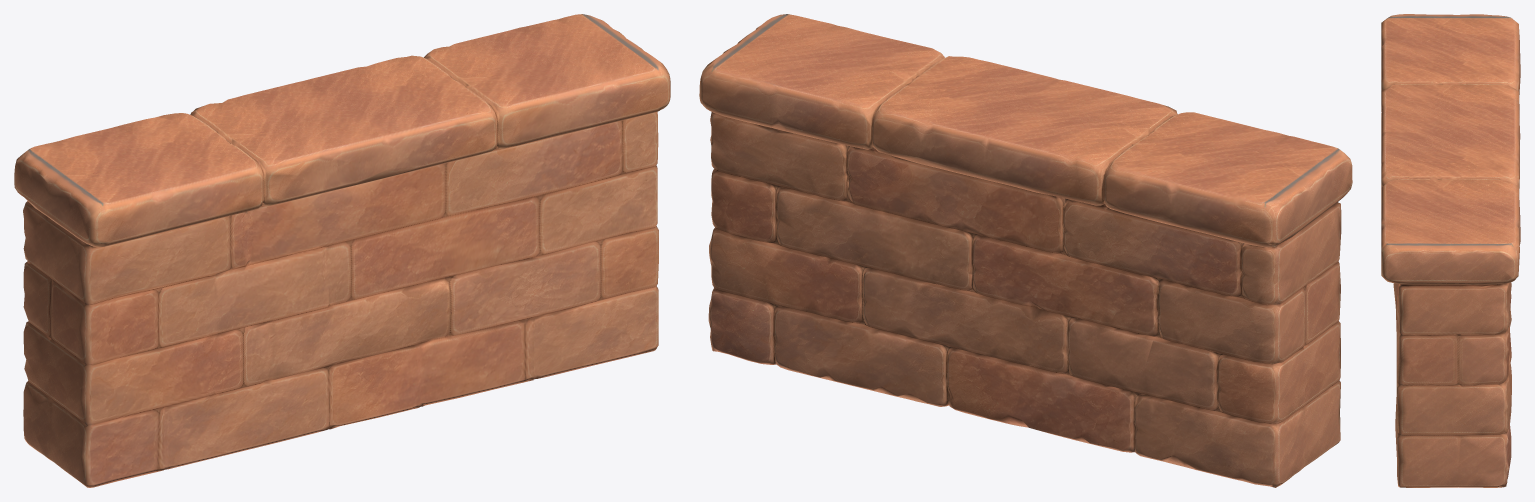
The model's file is retain.glb.
3 views of the same model, side by side, from view 1: azimuth 30°, elevation 25°; view 2: azimuth 150°, elevation 25°; view 3: azimuth 270°, elevation 25° (orthographic). The views are drawn at different scales.
Size of the model in its own units: 0.9565 by 0.4575 by 0.2383.
1 material, 1 textured.
